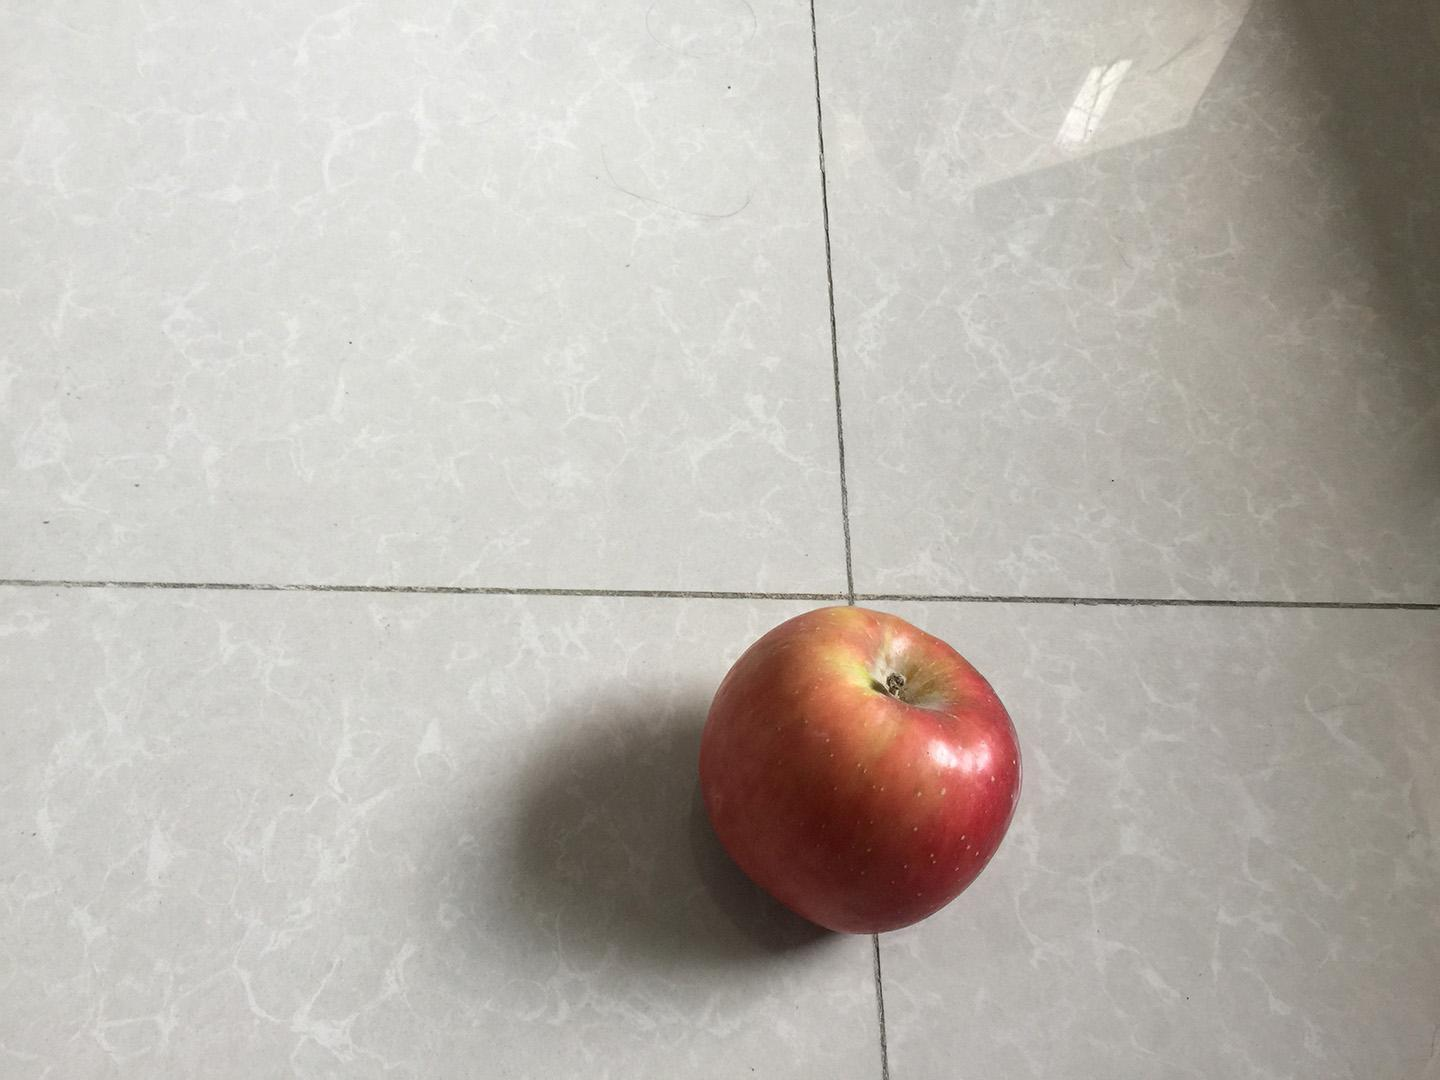apple: (697, 597, 1030, 939)
